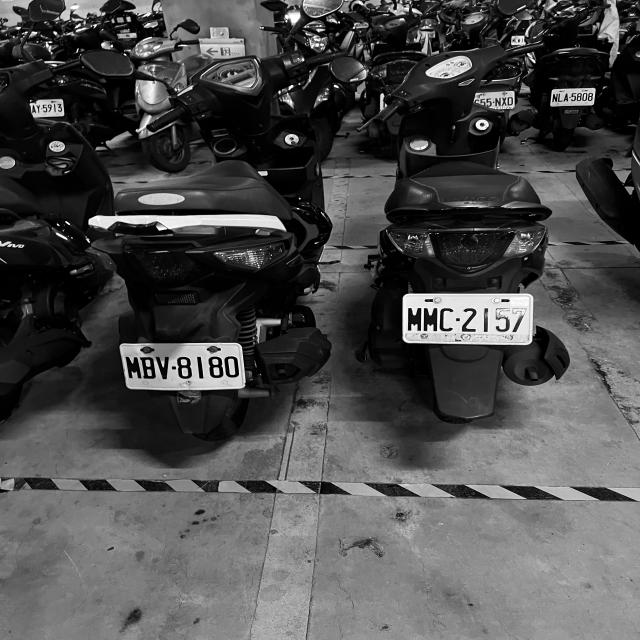-: (119, 343, 246, 389), (454, 316, 459, 322), (171, 366, 177, 370), (492, 100, 494, 104), (40, 108, 43, 110), (568, 96, 570, 98)
0: (223, 354, 241, 380), (582, 93, 588, 101)
1: (194, 356, 207, 380), (484, 308, 490, 333), (54, 104, 58, 113)
2: (460, 308, 478, 332)
3: (57, 104, 63, 112)
5: (494, 306, 512, 332), (42, 104, 48, 112), (486, 99, 492, 107), (572, 93, 576, 101)
7: (512, 307, 530, 333)
8: (177, 355, 193, 379), (208, 356, 225, 378), (576, 92, 582, 101), (588, 92, 594, 100)
9: (48, 104, 52, 112)
A: (563, 92, 569, 102), (32, 105, 36, 113)
B: (141, 355, 157, 379)
C: (439, 307, 455, 331)
D: (508, 98, 514, 106)
L: (558, 92, 564, 102)
M: (125, 355, 142, 380), (423, 307, 439, 331), (408, 306, 422, 331)
N: (552, 93, 558, 103), (496, 98, 502, 107)
V: (156, 354, 170, 380)
X: (502, 98, 507, 106)
Y: (36, 105, 40, 113)
plate: (401, 293, 531, 343), (552, 88, 594, 106)
